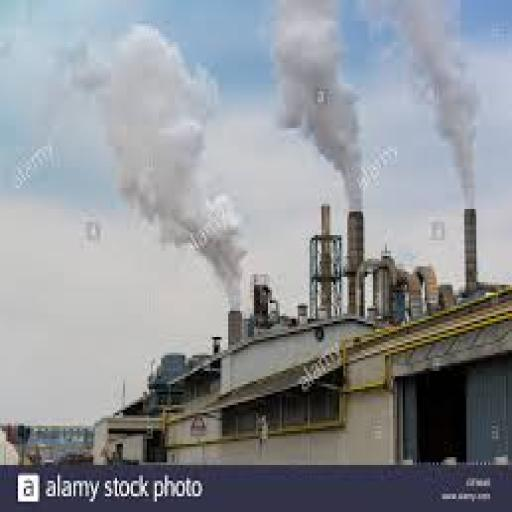smoke: (97, 8, 506, 282)
